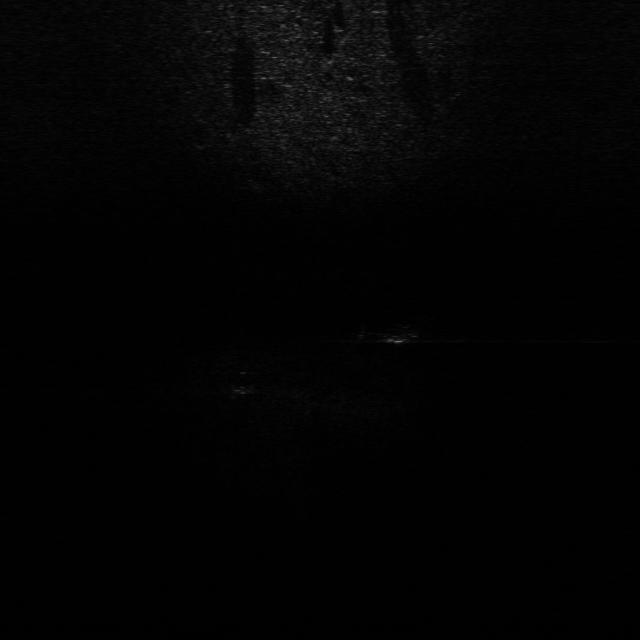ball: (226, 367, 264, 395)
human body: (356, 310, 440, 348)
